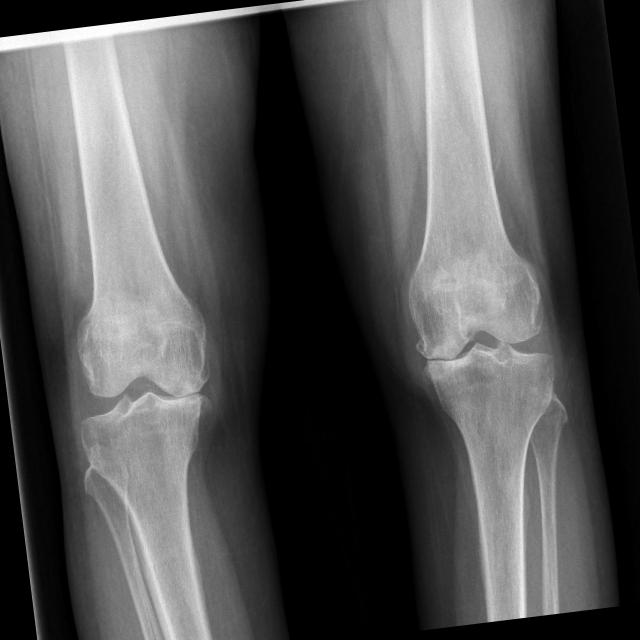Knee: (64, 314, 224, 468), (400, 273, 558, 412)
